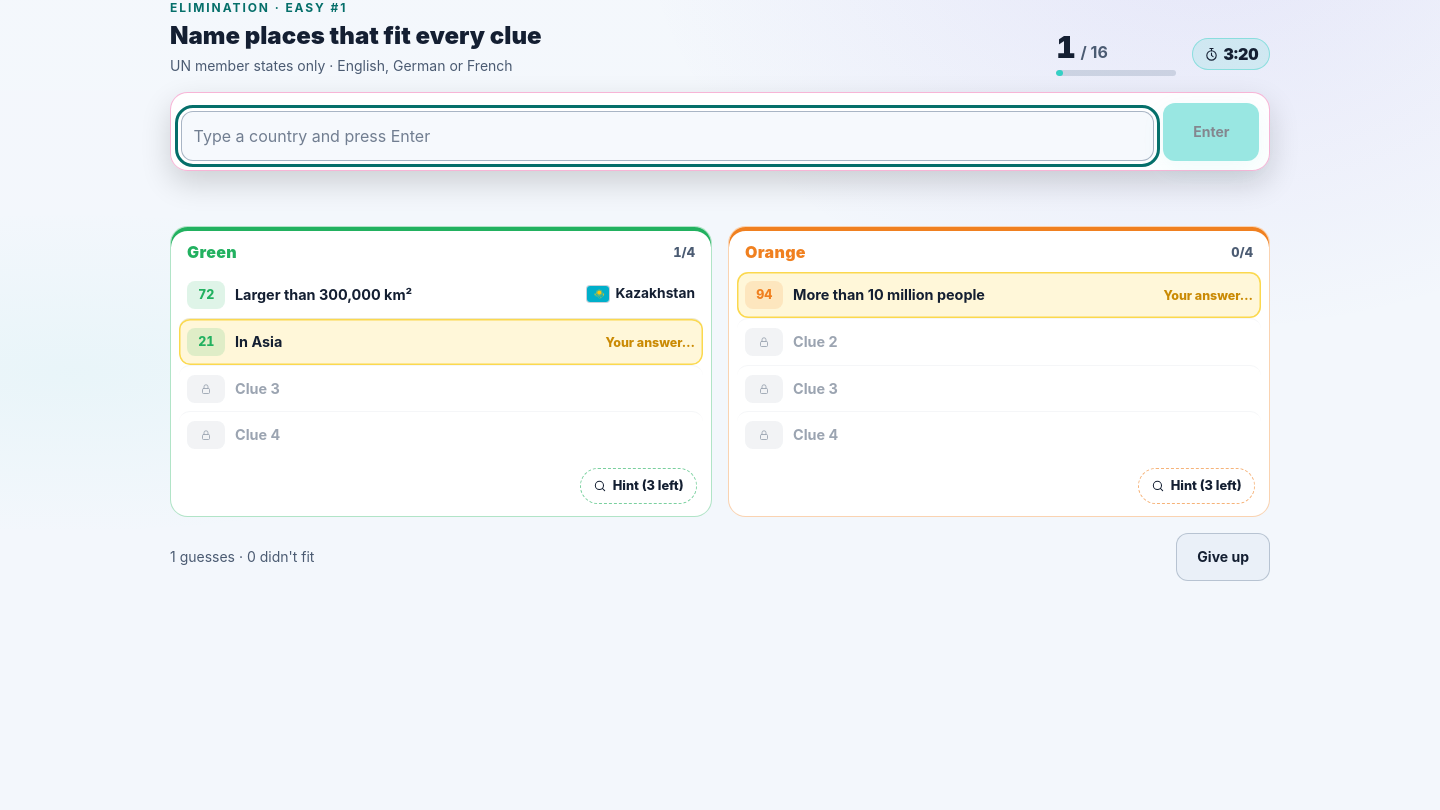
it: asks before spending a hint and keeps playing on cancel
The width and height of the screenshot is (1440, 810).
Click the button with aria-label "Use a hint for Green, 3 left" at (638, 486), box [580,468,697,504]
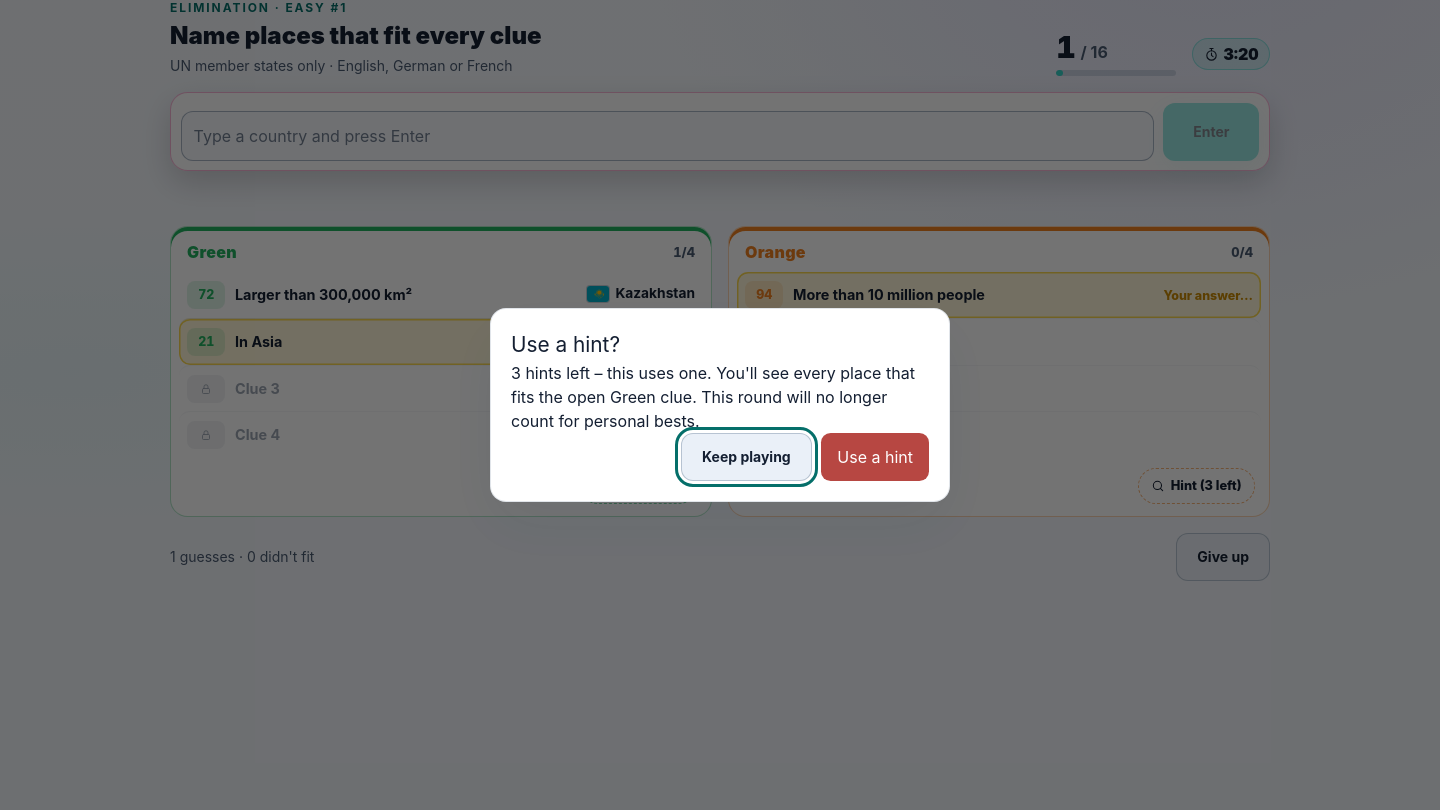
Expected: the dialog "Use a hint?" shows "3 hints left – this uses one.", [490,308,950,502]
Expected: the dialog "Use a hint?" shows "This round will no longer count for personal bests.", [511,387,887,431]
Click the button "Keep playing" at (746, 457), box [681,433,812,481]
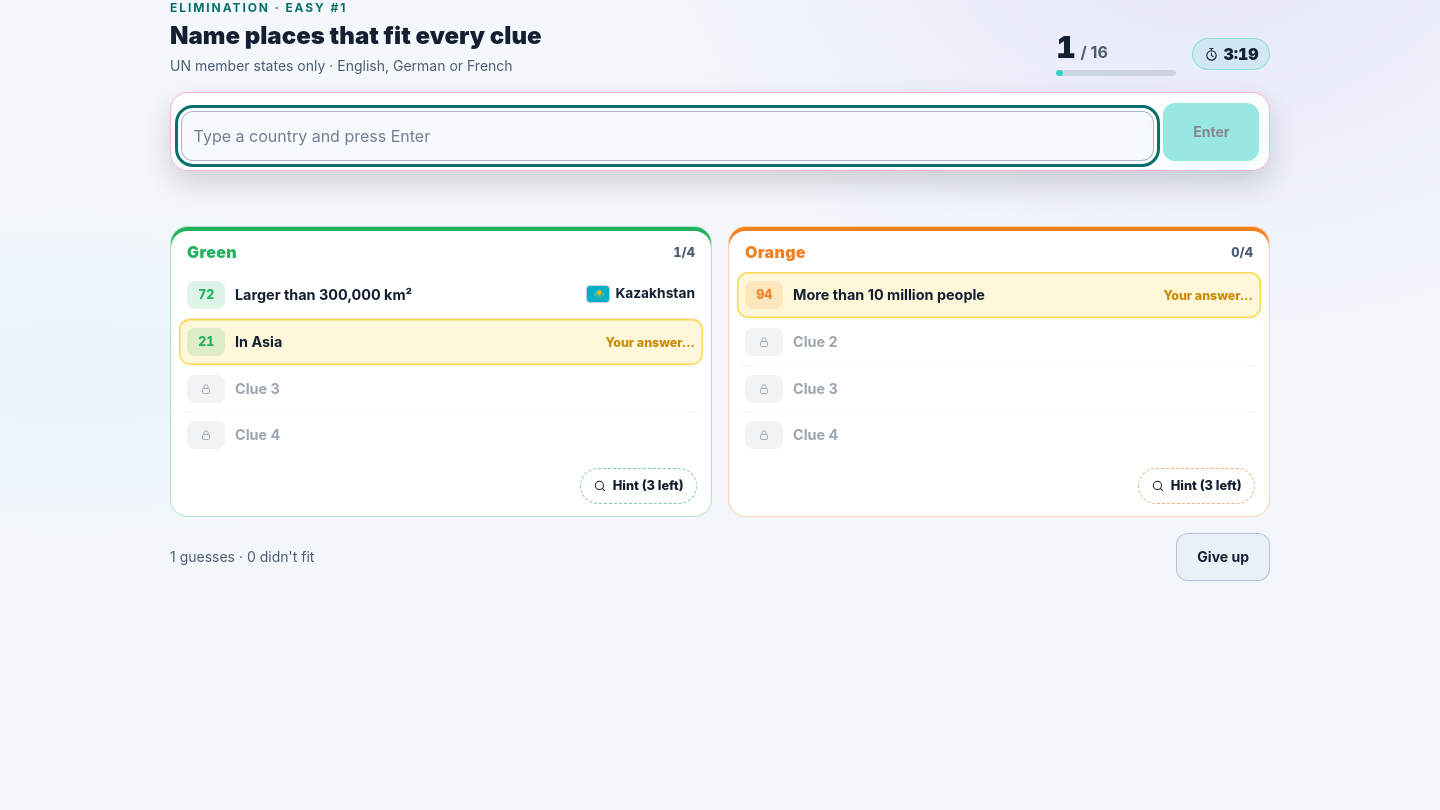
Expected: the dialog is gone
